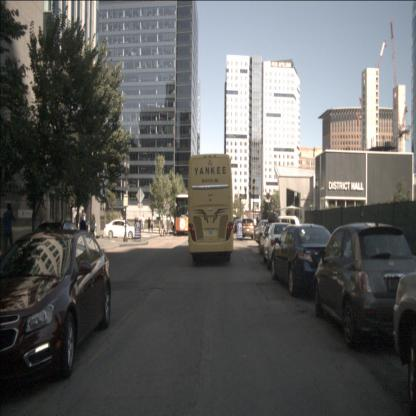cone: (160, 231, 162, 237)
